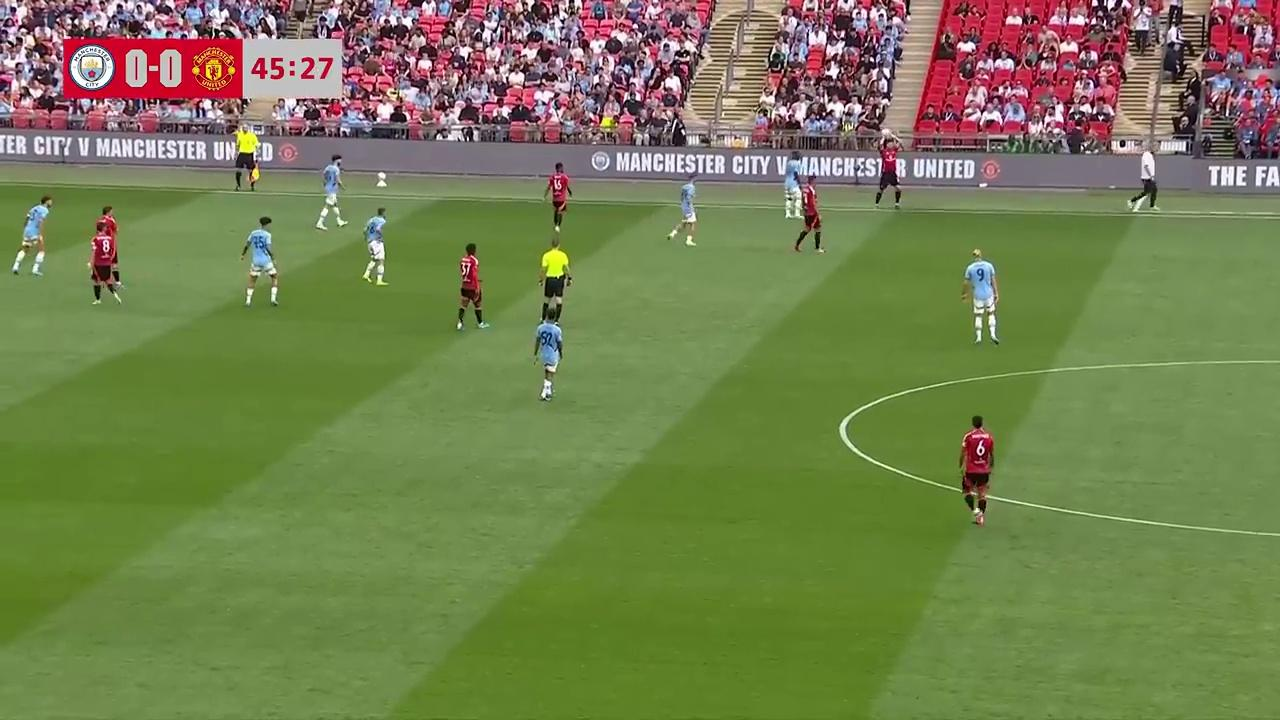ball: (880, 127, 894, 143)
player: (959, 415, 994, 525), (962, 248, 1000, 345), (240, 216, 280, 307), (11, 195, 52, 276), (532, 306, 563, 401), (456, 243, 487, 331), (539, 238, 572, 319), (87, 230, 122, 304), (792, 176, 825, 254), (315, 156, 346, 231), (668, 176, 698, 247), (545, 163, 573, 233), (362, 206, 387, 284), (94, 205, 121, 275), (874, 148, 904, 210), (787, 148, 804, 220)
referee: (538, 239, 572, 321), (233, 124, 259, 191)
